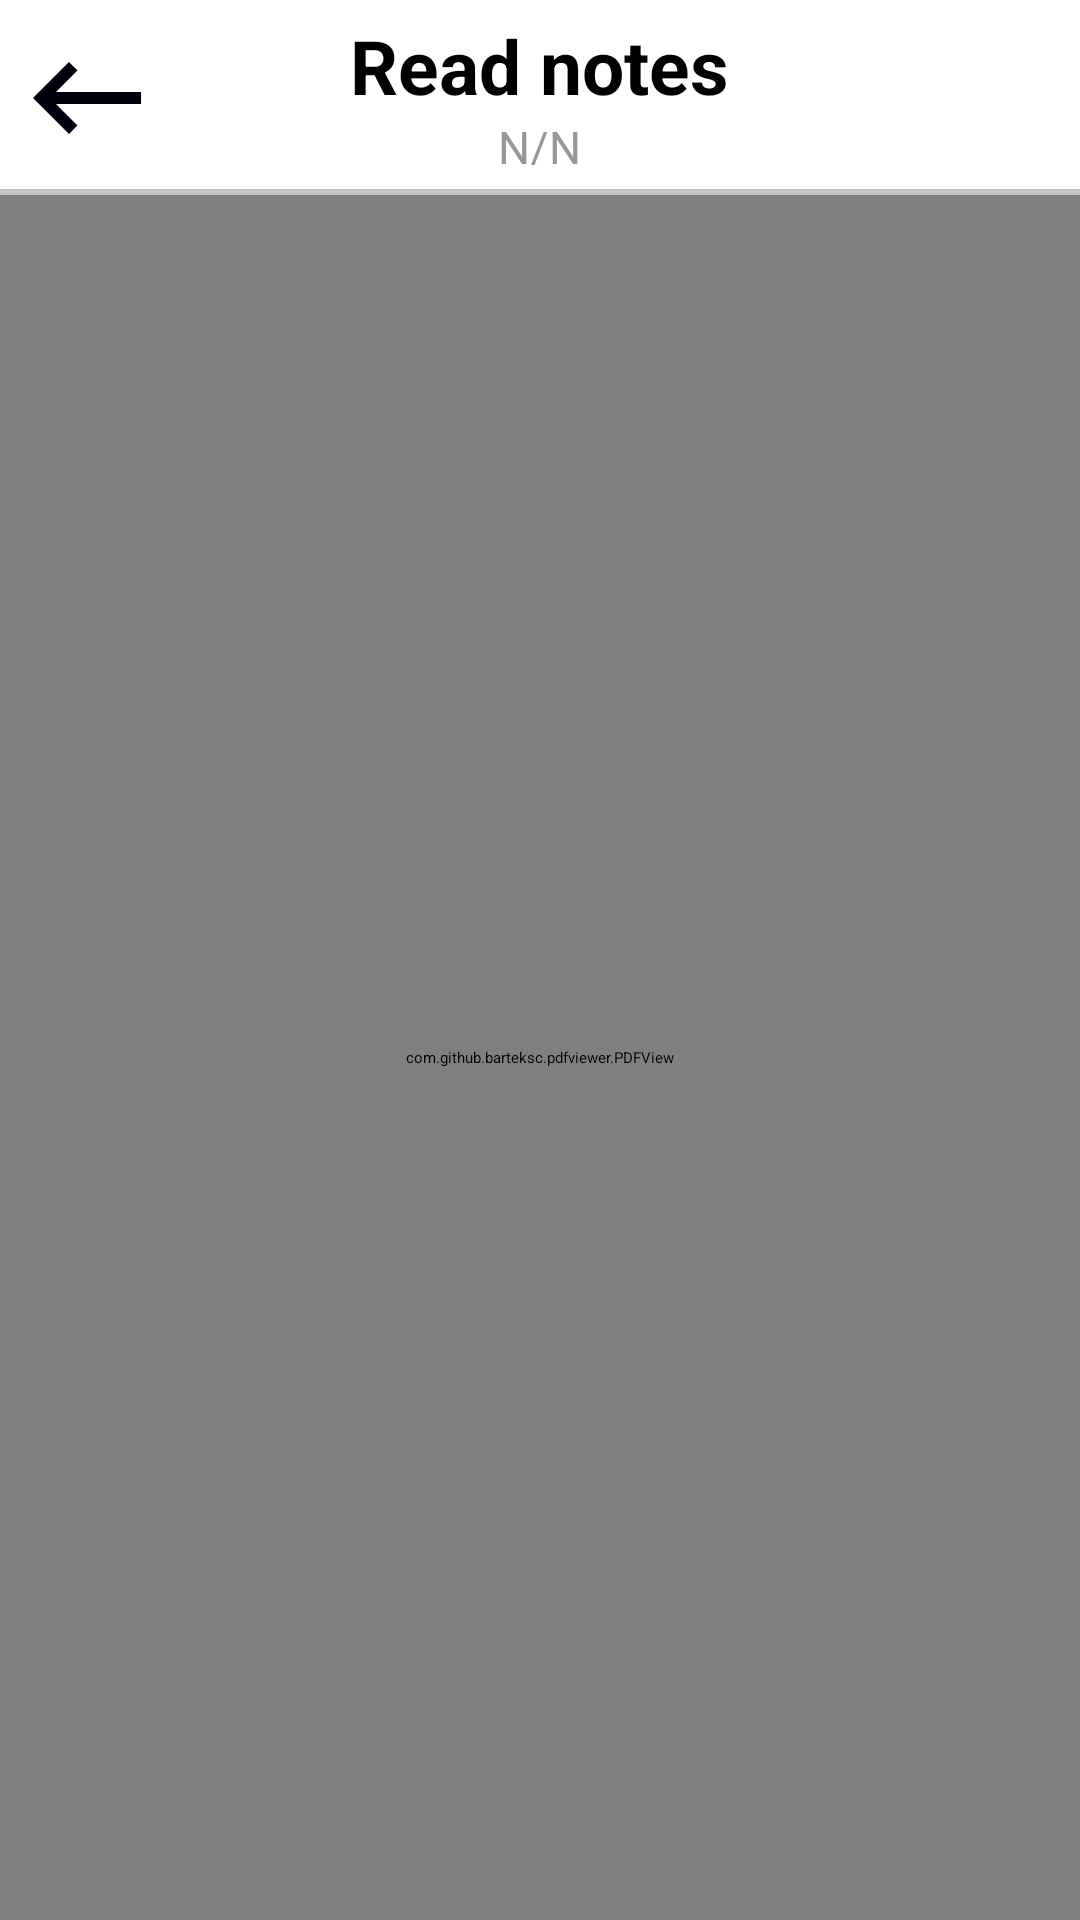

Where to tap for icons on this 1080×1920 app screen, as point (x, y):
keyboard backspace: point (87, 98)
